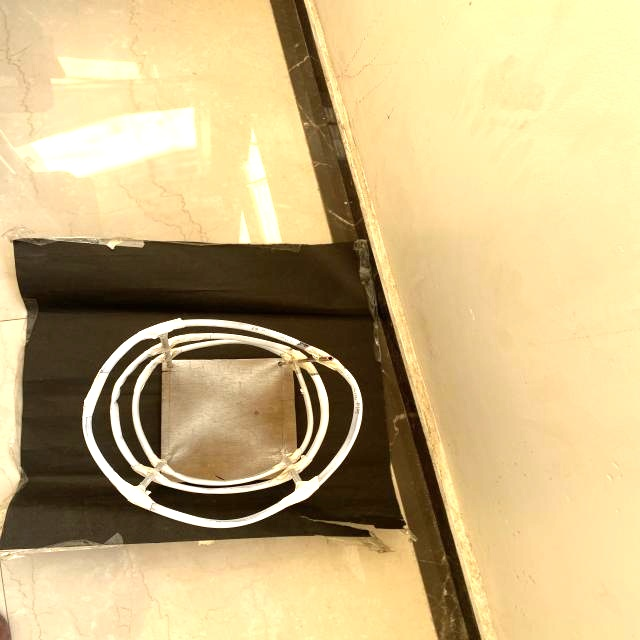silo: (87, 314, 365, 522)
